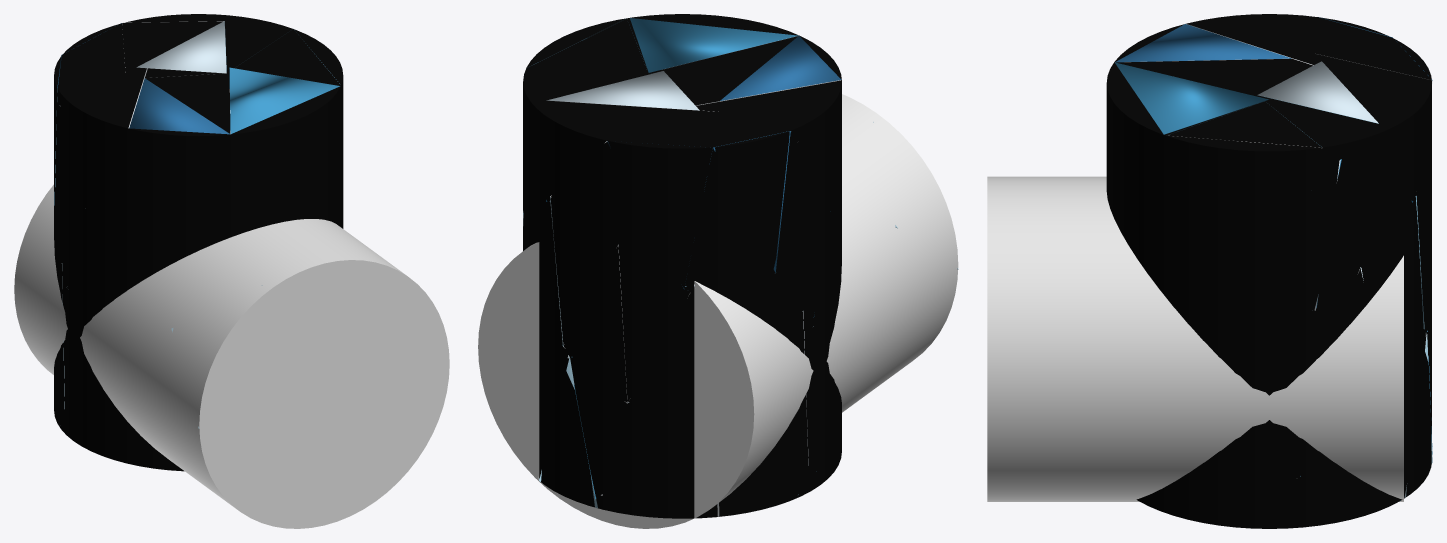
The picture shows the model from 3 angles, left to right: view 1: azimuth 30°, elevation 25°; view 2: azimuth 150°, elevation 25°; view 3: azimuth 270°, elevation 25°; orthographic projection. The views are drawn at different scales.
Parts seen in each view (by area): view 1: Renderer Node; view 2: Renderer Node; view 3: Renderer Node.
Part boxes in pixels (x1,y1,x2,y2): Renderer Node: (14,14,449,528); Renderer Node: (478,14,958,528); Renderer Node: (987,14,1432,528).
Size of the model in its own units: 2.32 by 3.17 by 3.17.
